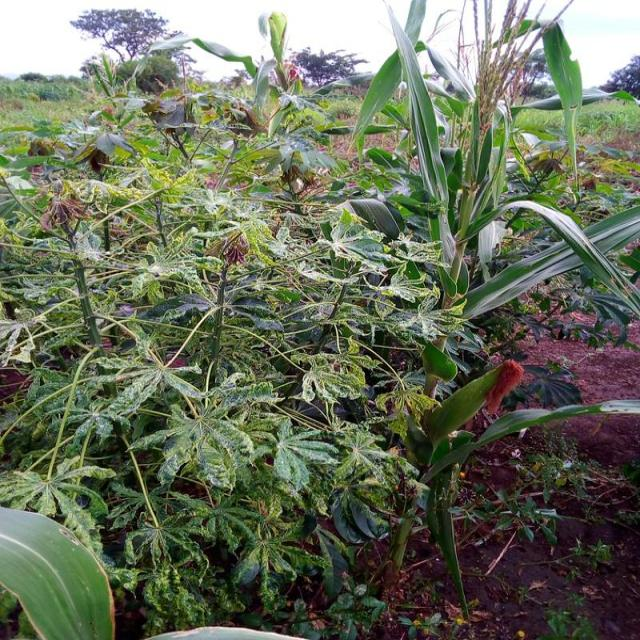cassava leaf: (0, 503, 115, 639)
